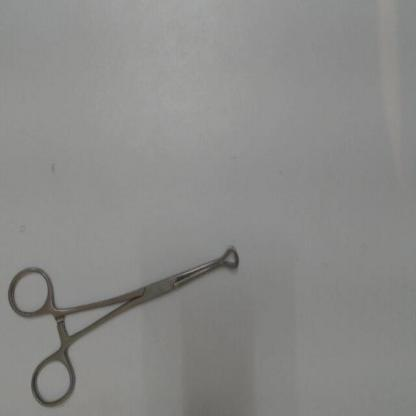Babcock Tissue Forceps: (3, 239, 242, 412)
